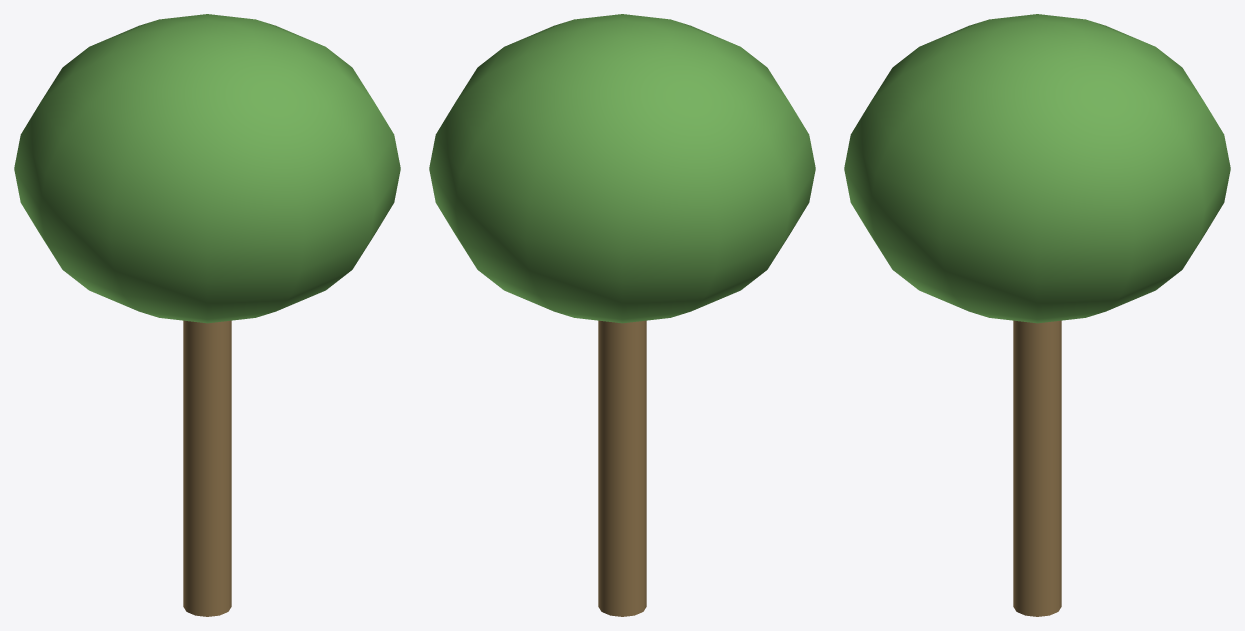
File: env-mod-oak.glb
3 views of the same model, side by side, from view 1: azimuth 30°, elevation 25°; view 2: azimuth 150°, elevation 25°; view 3: azimuth 270°, elevation 25° (orthographic).
Size of the model in its own units: 4 by 6.5 by 4.
